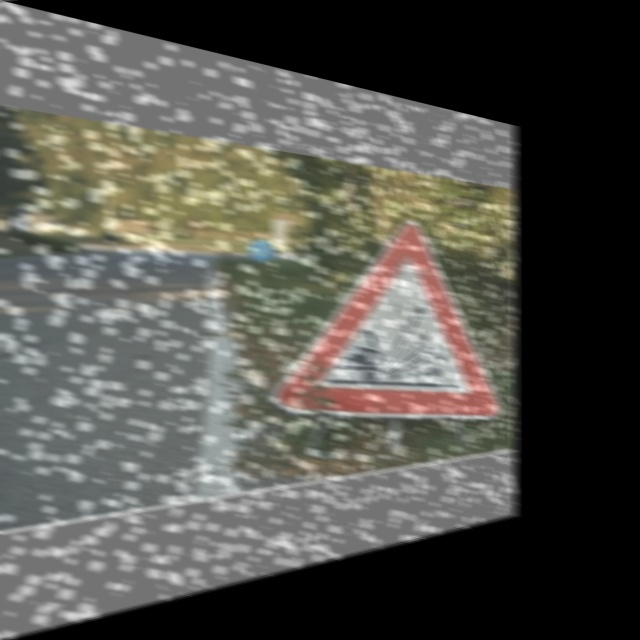Loose_Gravel: (285, 205, 496, 442)
